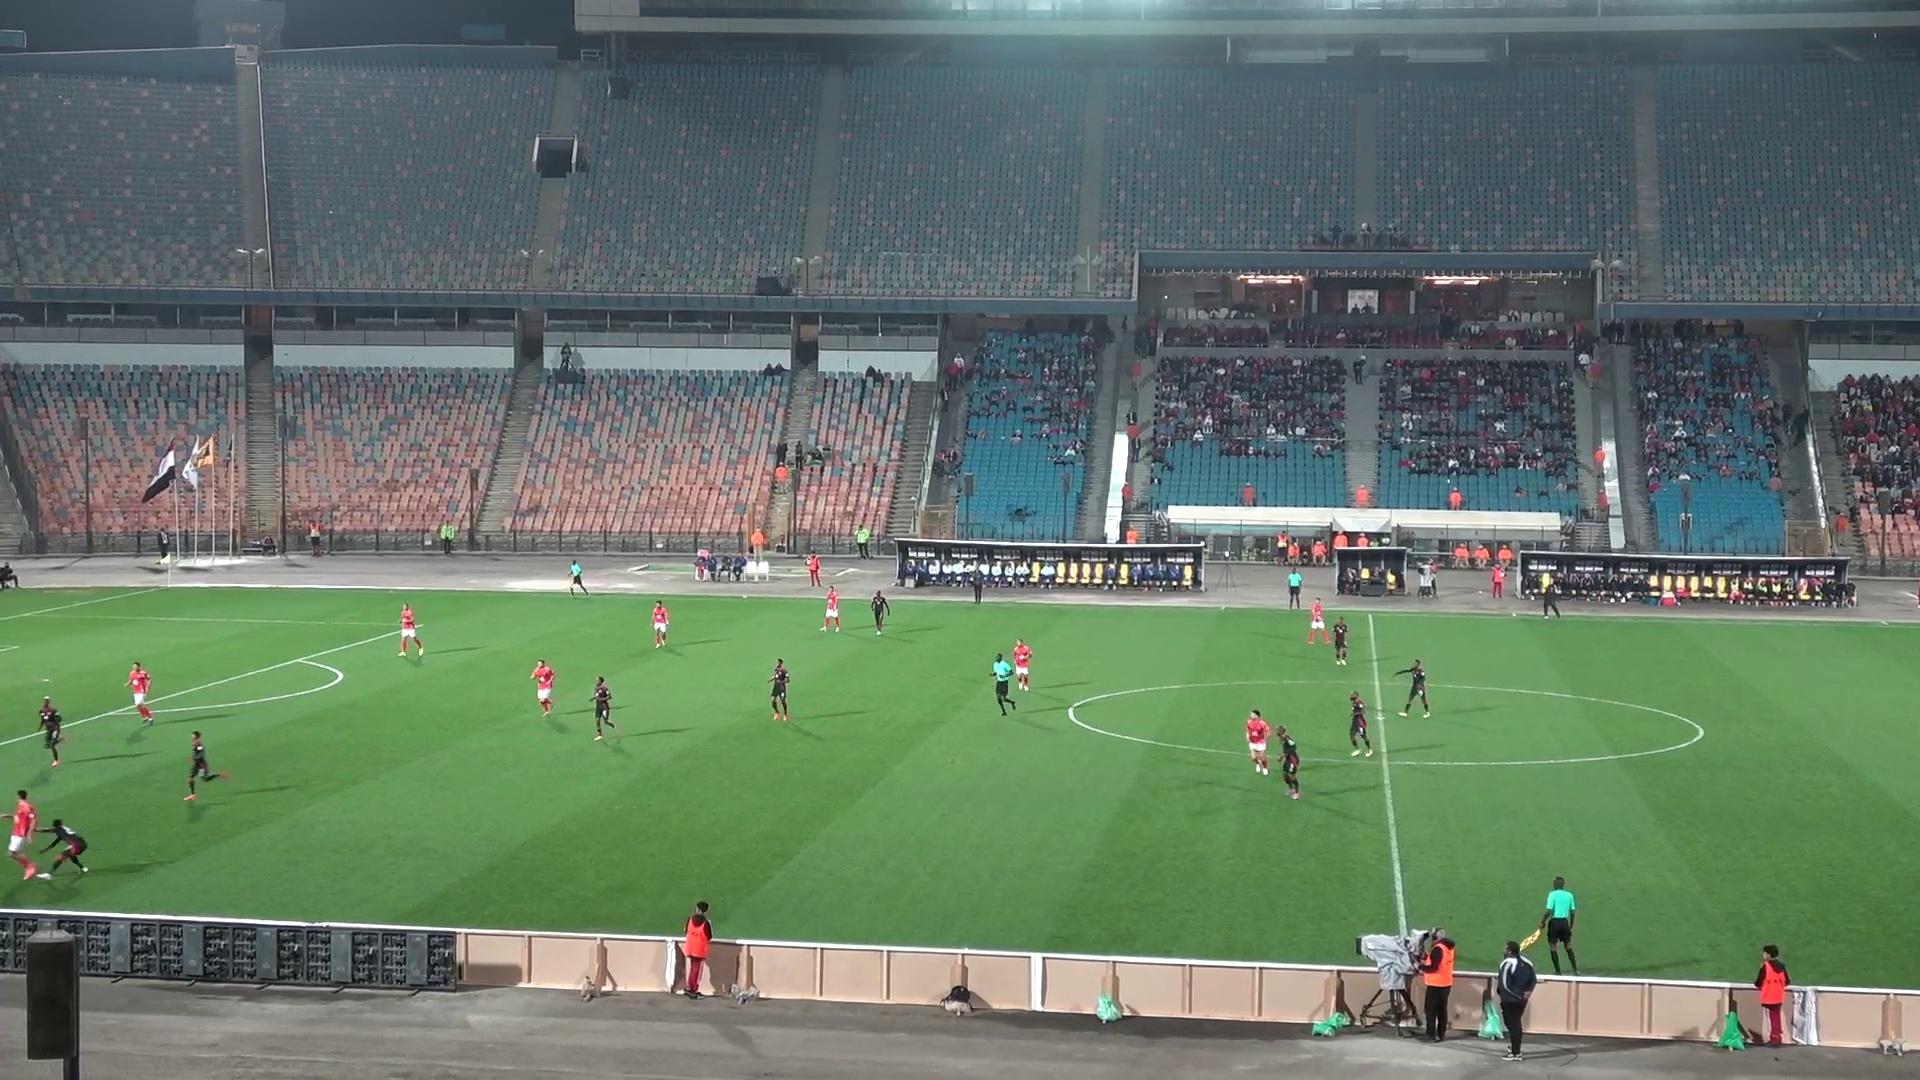Refree: (1520, 878, 1578, 973), (989, 651, 1018, 715), (567, 559, 592, 596), (1286, 566, 1303, 609)
Team1: (7, 790, 47, 880), (1245, 709, 1282, 775), (994, 640, 1031, 690), (127, 662, 154, 724), (1305, 597, 1335, 644), (398, 605, 425, 655), (531, 661, 555, 715), (819, 585, 843, 632), (651, 601, 669, 647)
Team2: (183, 731, 229, 800), (41, 818, 87, 873), (1266, 727, 1300, 799), (1394, 661, 1431, 717), (38, 696, 65, 767), (1346, 690, 1374, 756), (589, 676, 616, 741), (767, 661, 790, 719), (1327, 616, 1350, 665), (868, 589, 891, 636)
